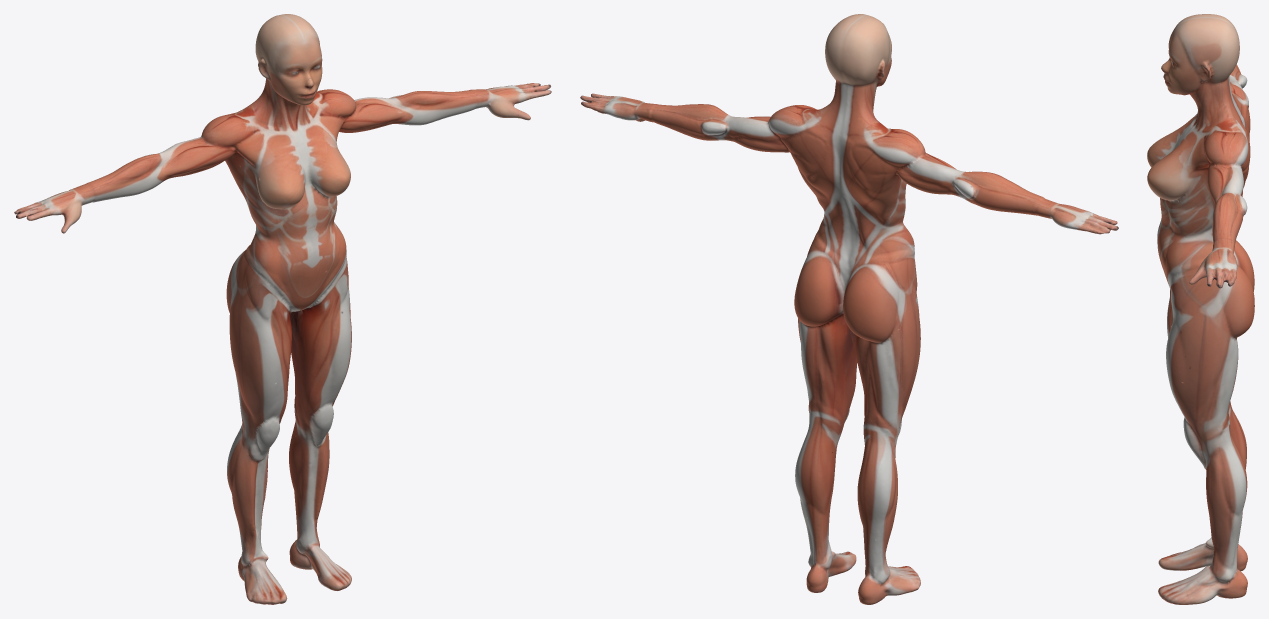
File: female_human_skeleton_full_body_anatomy_3d_model.glb
The picture shows the model from 3 angles, left to right: view 1: azimuth 30°, elevation 25°; view 2: azimuth 150°, elevation 25°; view 3: azimuth 270°, elevation 25°; orthographic projection.
Visible parts, largest first — view 1: Object_4, Object_5; view 2: Object_5, Object_4; view 3: Object_4, Object_5.
Boxes of the visible parts, x1,y1,x2,y2 form: Object_4: (17,15,551,604); Object_5: (14,14,550,586); Object_5: (580,20,1118,604); Object_4: (591,14,1117,598); Object_4: (1147,14,1247,604); Object_5: (1205,14,1254,599).
Bounding box in the file's own units: 1.99 × 2 × 0.345.
1 material, 1 textured.
